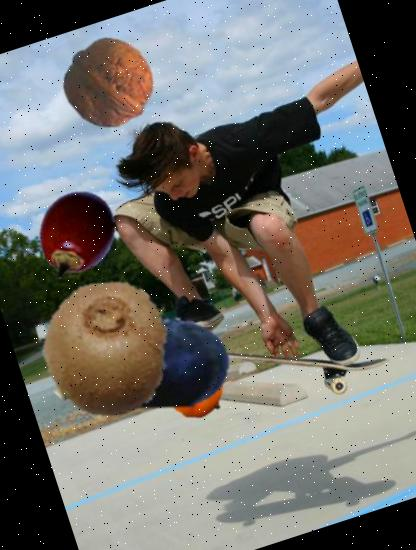Blueberry: (81, 278, 248, 444)
Kiwi: (22, 264, 196, 437)
Pepper: (160, 355, 233, 428)
Tamarillo: (22, 178, 134, 290)
Walnut: (52, 25, 168, 141)
